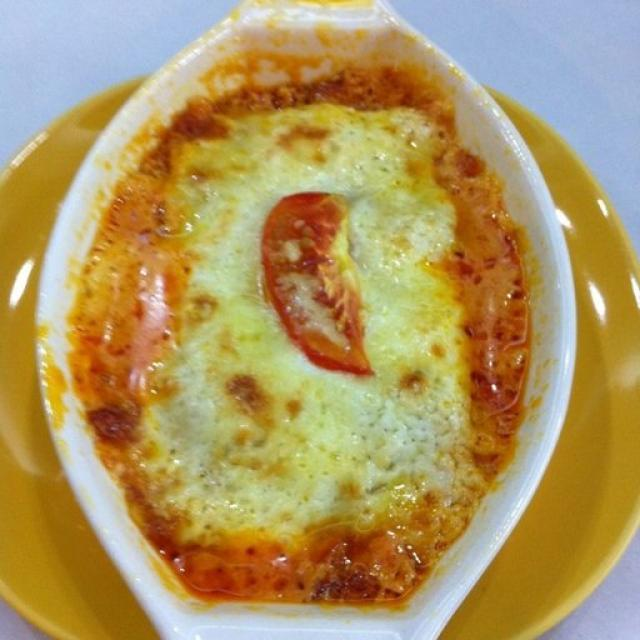Lasagna: (100, 69, 519, 619)
